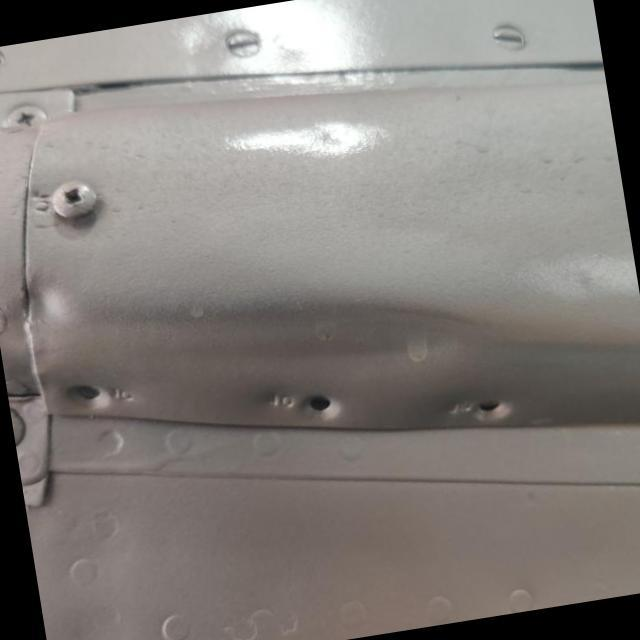Fastener Damage: (34, 341, 147, 456), (260, 352, 376, 453), (440, 357, 548, 459)
